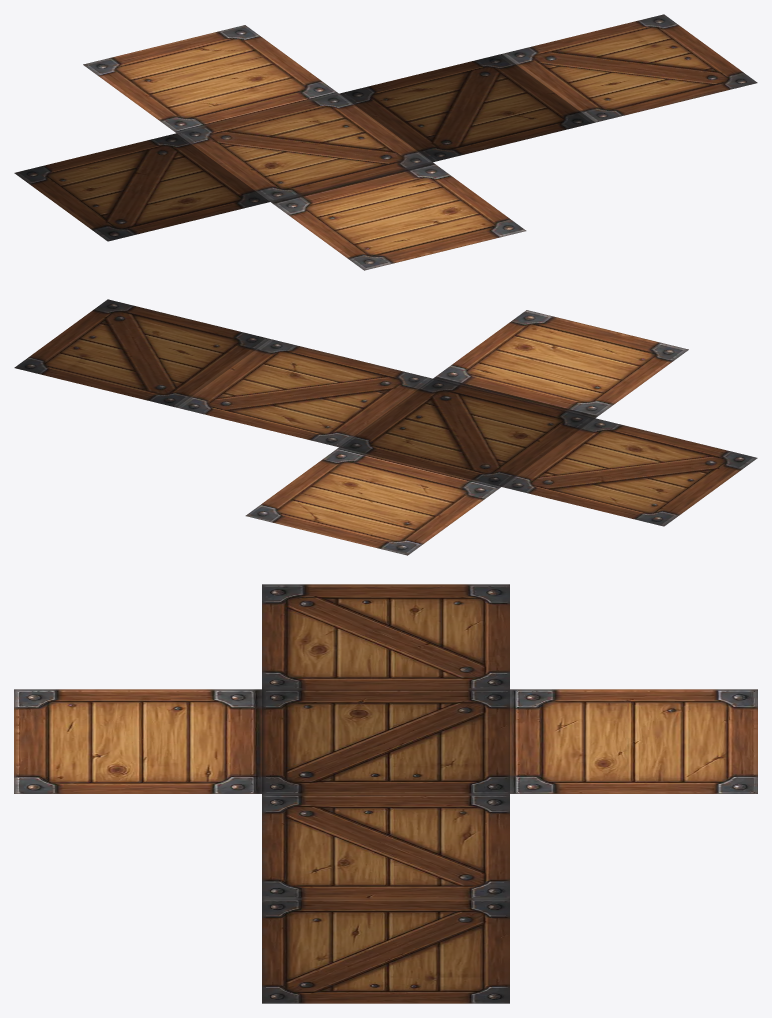
Rendered from crate_fold.glb.
The picture shows the model from 3 angles, top to bottom: view 1: azimuth 30°, elevation 25°; view 2: azimuth 150°, elevation 25°; view 3: azimuth 270°, elevation 25°; orthographic projection. The views are drawn at different scales.
Visible parts, largest first — view 1: GEO-crate; view 2: GEO-crate; view 3: GEO-crate.
Part boxes in pixels (x1,y1,x2,y2): GEO-crate: (14,14,757,270); GEO-crate: (14,299,757,555); GEO-crate: (14,584,757,1003).
Bounding box in the file's own units: 2.4 × 2.1e-08 × 1.8.
1 material, 1 textured.
